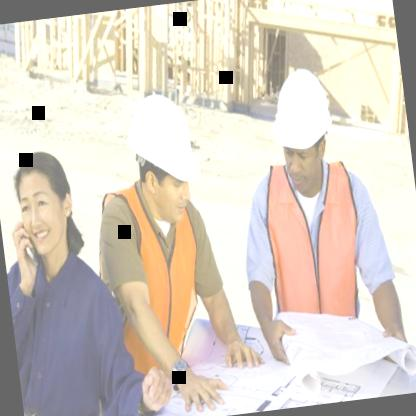head: (5, 140, 80, 264)
helmet: (123, 90, 207, 226), (266, 63, 340, 192)
